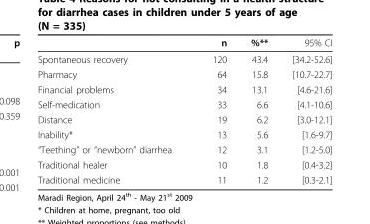table: (36, 36, 331, 185)
table column: (36, 36, 191, 185), (279, 36, 331, 185), (191, 36, 238, 185), (238, 36, 279, 185)
table column header: (36, 36, 331, 50)
table row: (36, 50, 331, 66), (36, 66, 331, 81), (36, 81, 331, 96), (36, 96, 331, 111), (36, 111, 331, 126), (36, 126, 331, 141), (36, 141, 331, 156), (36, 156, 331, 171), (36, 36, 331, 50), (36, 171, 331, 185)
